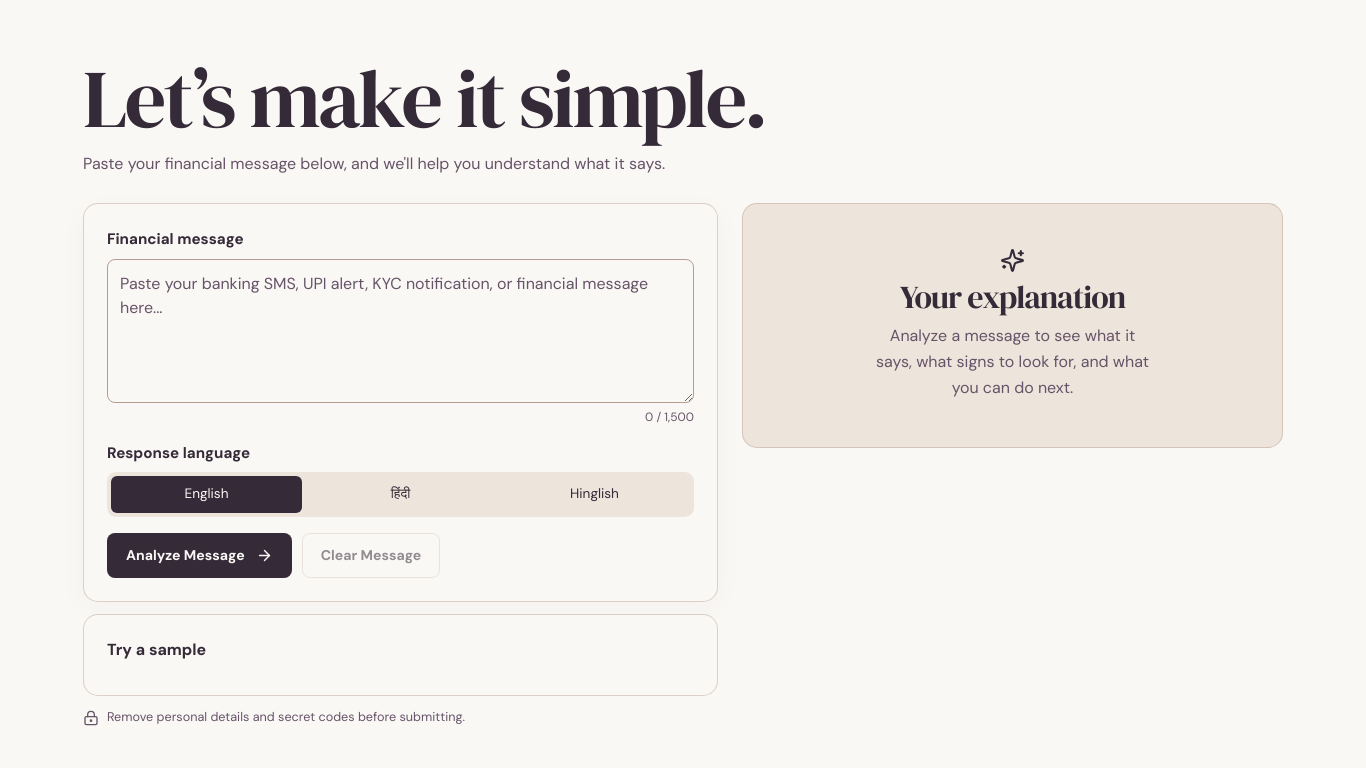
Test: validates empty input and surfaces a backend error
Click the button "Analyze Message". click: click(199, 555)
box: [107, 533, 292, 578]
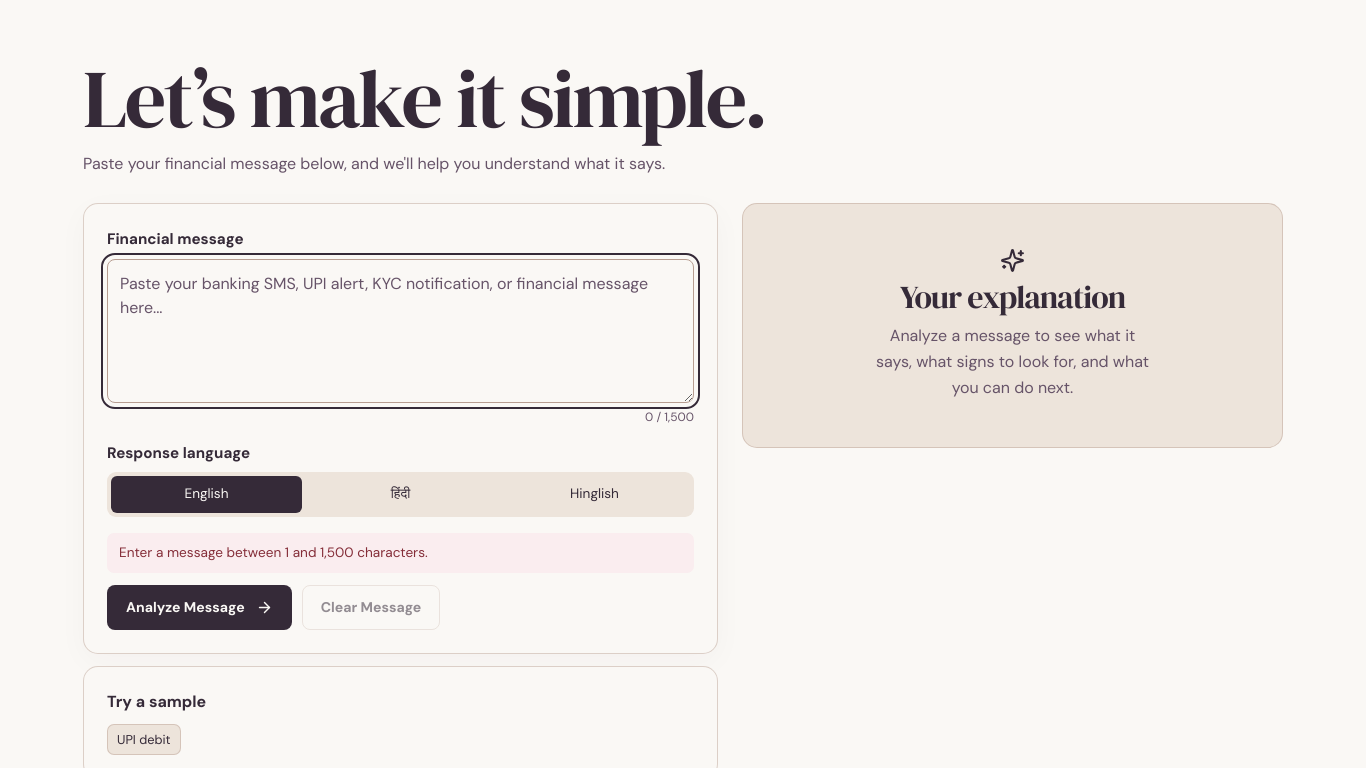
expect the message shows "Enter a message": met, box [119, 544, 428, 561]
Click the button "UPI debit". click: click(144, 740)
box: [107, 724, 181, 755]
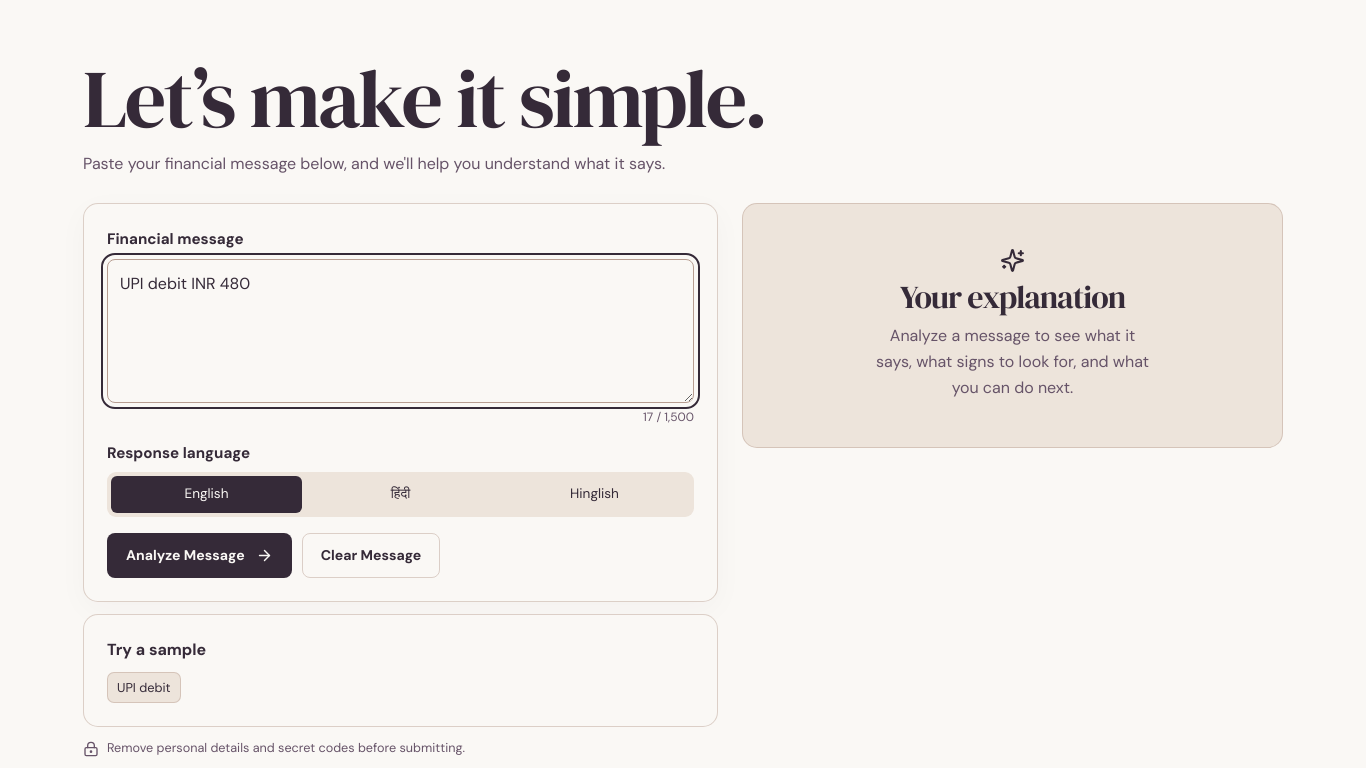
Click the button "Analyze Message". click: click(199, 555)
box: [107, 533, 292, 578]
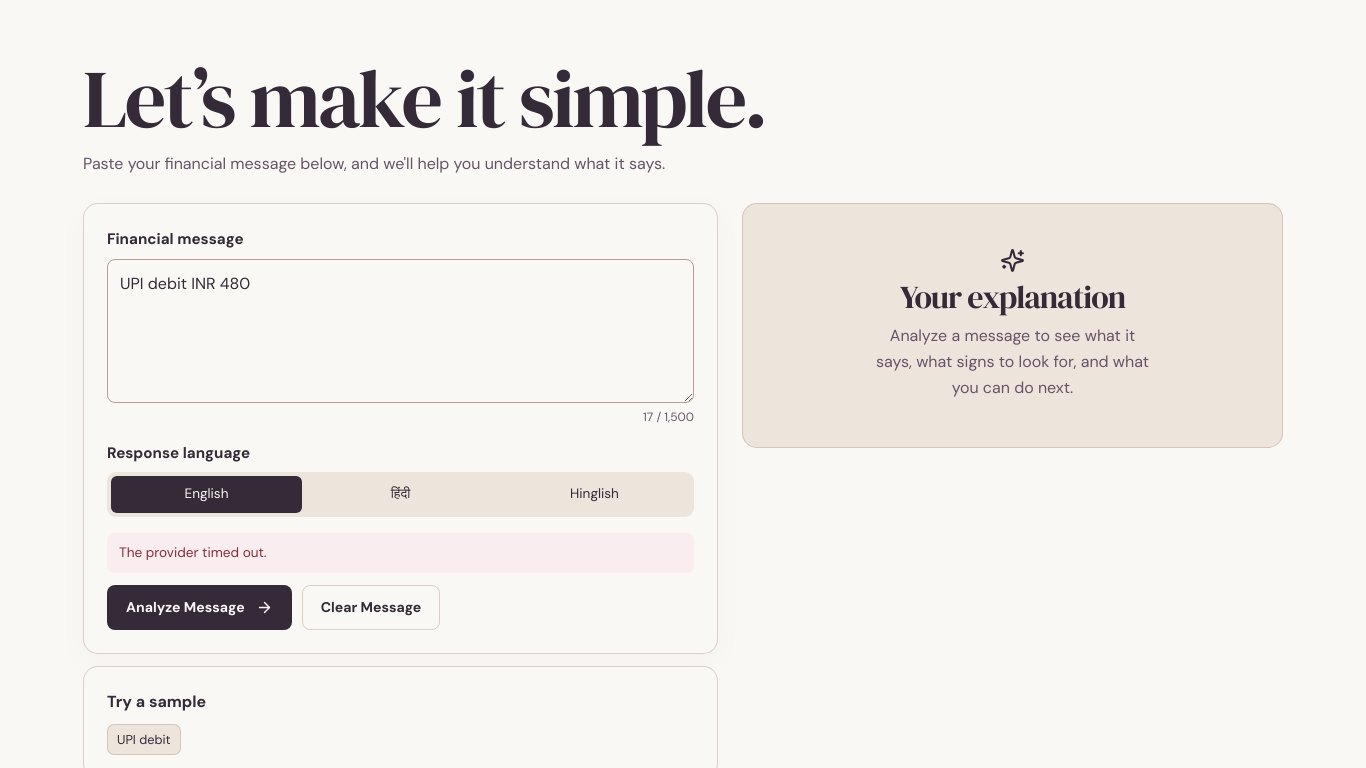
expect the message shows "timed out": met, box [119, 544, 266, 561]
